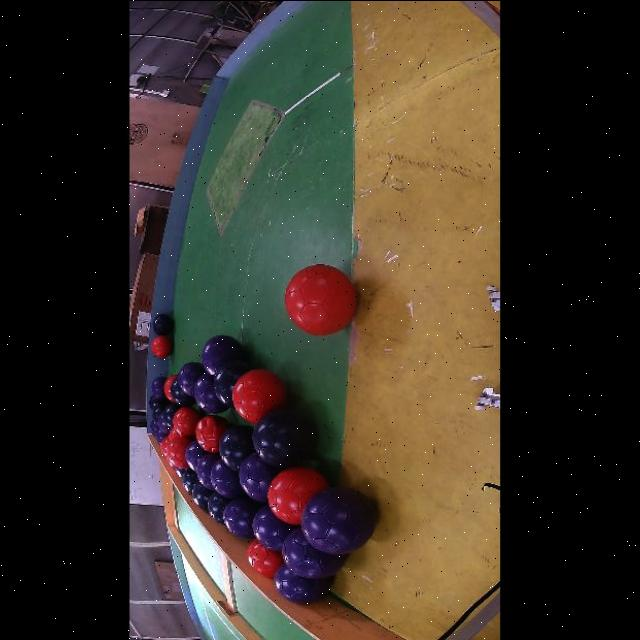B: (252, 408, 315, 466), (274, 563, 333, 603), (213, 359, 252, 407), (219, 423, 255, 470), (208, 491, 232, 524), (171, 377, 196, 405), (193, 482, 213, 510), (163, 402, 182, 426), (182, 467, 199, 493), (149, 394, 171, 409), (153, 404, 165, 422), (175, 467, 186, 476)
P: (301, 485, 377, 554), (283, 527, 347, 578), (239, 452, 284, 502), (252, 503, 297, 551), (202, 334, 246, 374), (224, 494, 263, 538), (194, 372, 229, 413), (211, 458, 246, 497), (177, 362, 206, 395), (197, 452, 221, 489), (185, 439, 208, 470), (153, 313, 173, 334), (151, 376, 167, 399), (158, 411, 171, 434), (155, 429, 167, 444), (150, 420, 159, 435)
R: (286, 263, 357, 334), (269, 466, 330, 524), (233, 368, 288, 423), (247, 538, 283, 577), (195, 414, 230, 452), (173, 405, 203, 436), (167, 435, 191, 467), (151, 334, 173, 358), (164, 373, 177, 402), (160, 435, 170, 456), (168, 426, 180, 439), (166, 454, 176, 467)
